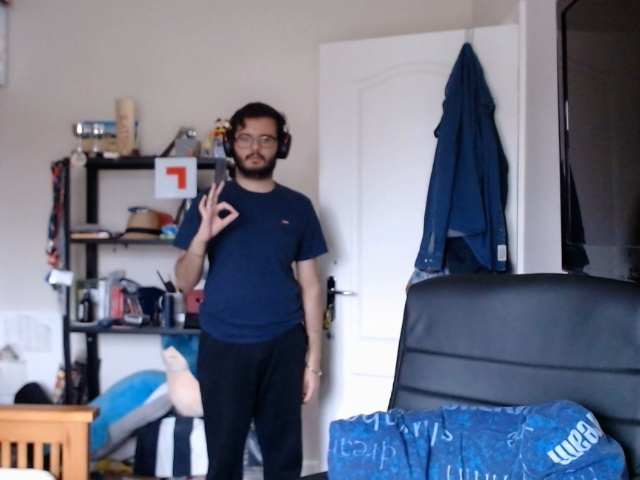Okay: (194, 173, 245, 247)
